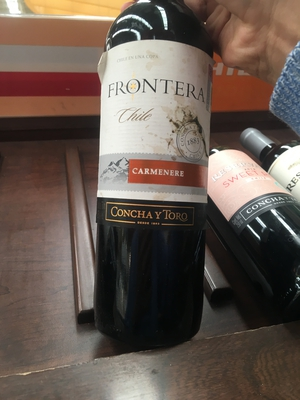frontera carmenere: (83, 17, 214, 337)
